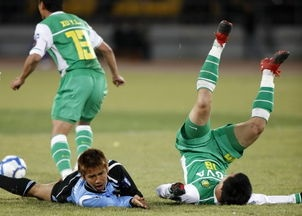falling: (150, 11, 286, 207)
